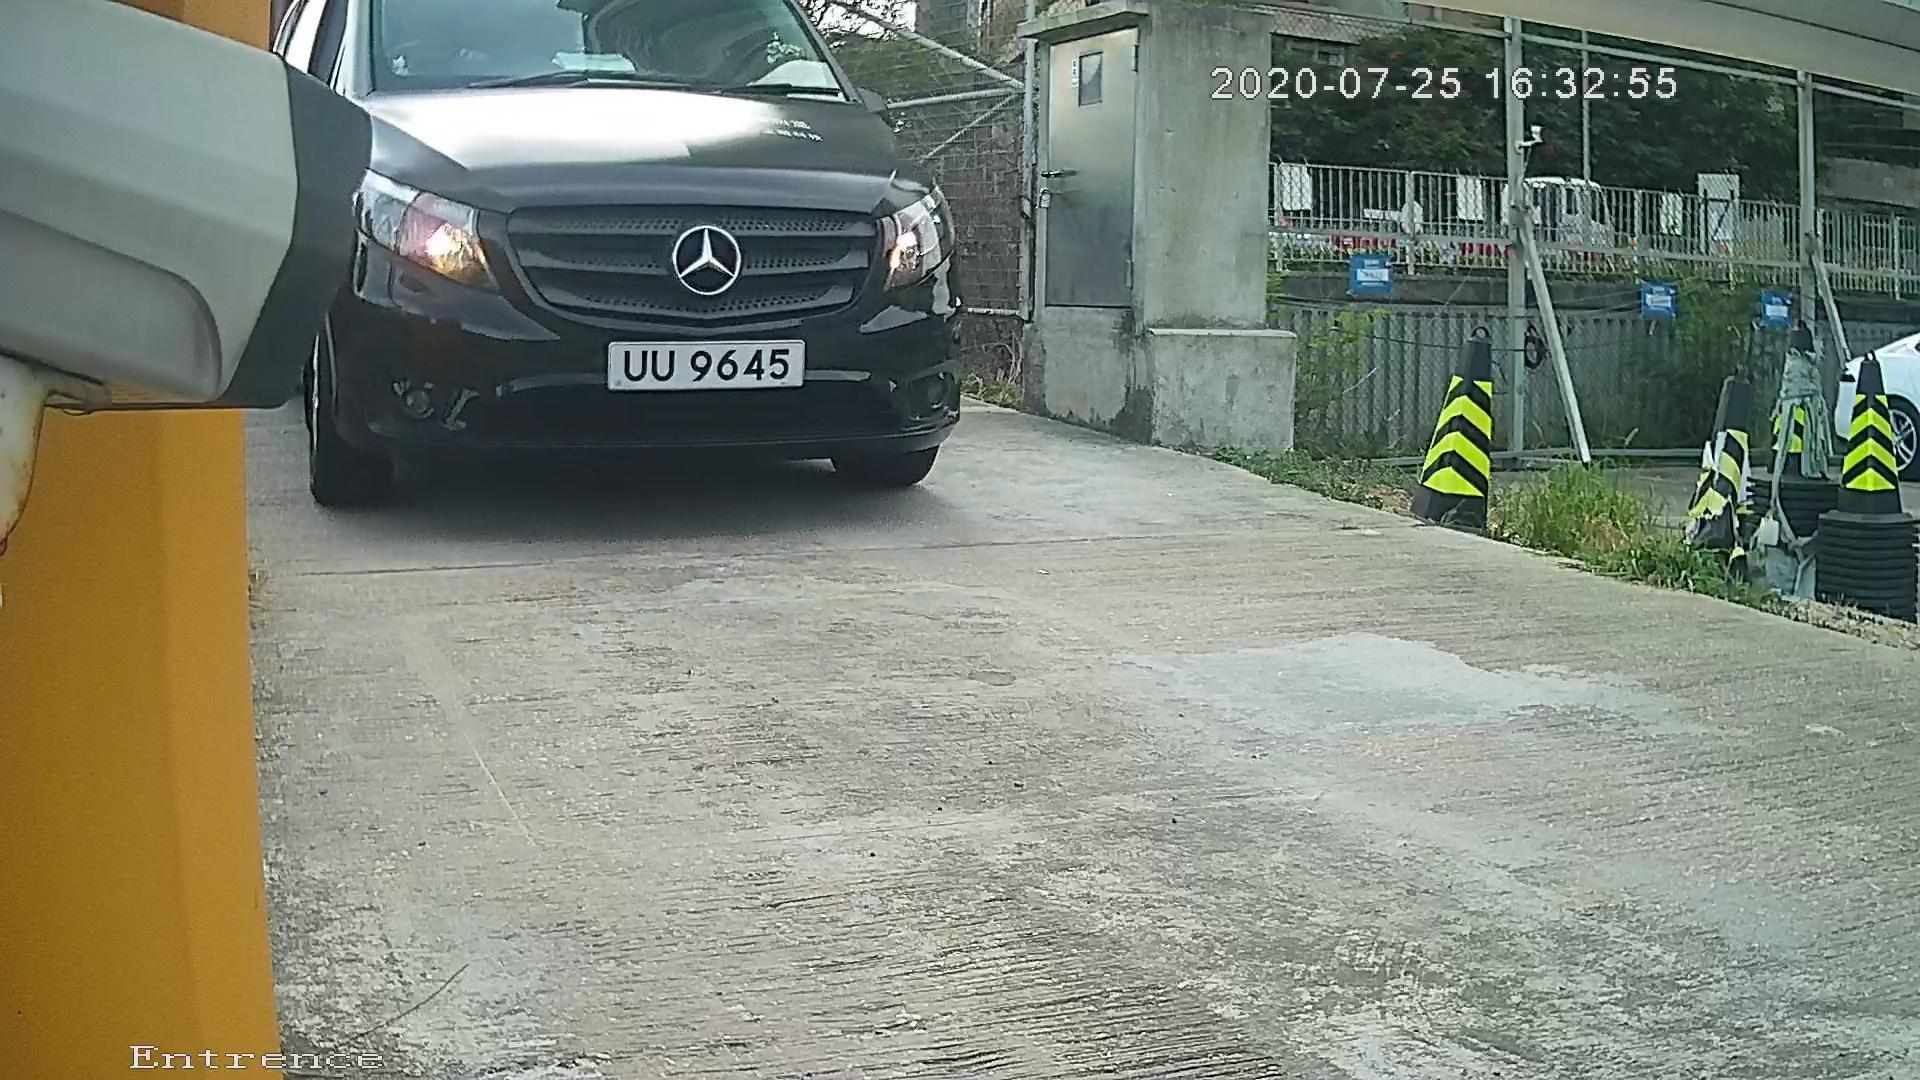privatecar: (215, 1, 1055, 564)
